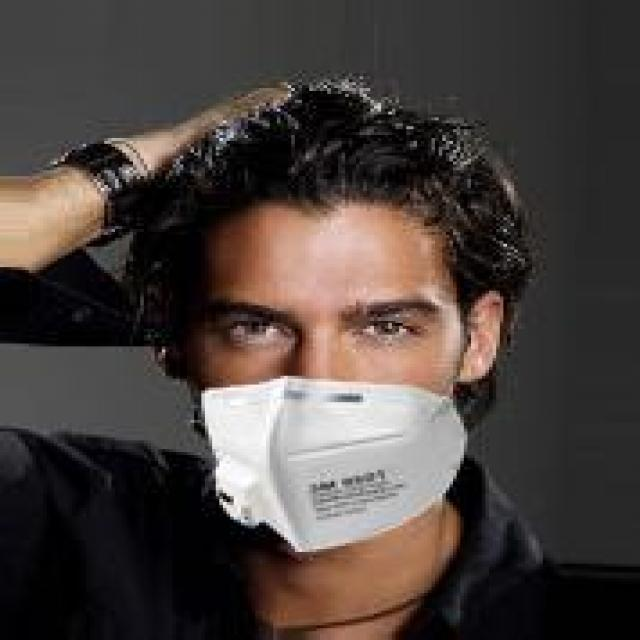mask: (86, 56, 528, 564)
